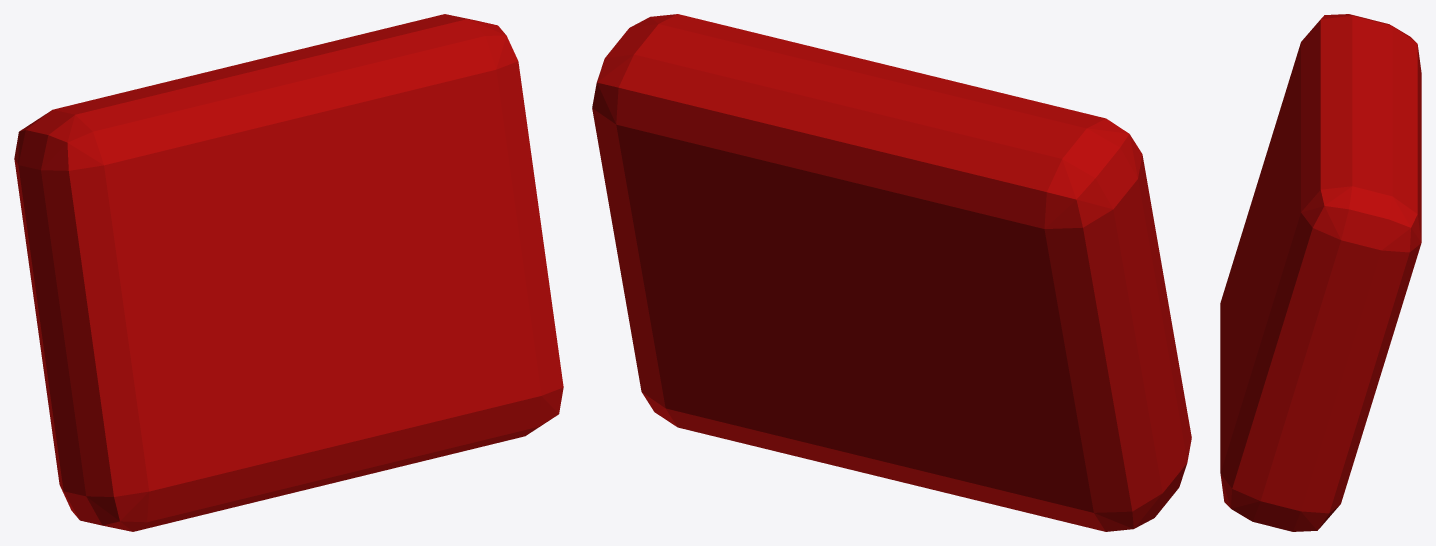
File: 5_button.obj
3 views of the same model, side by side, from view 1: azimuth 30°, elevation 25°; view 2: azimuth 150°, elevation 25°; view 3: azimuth 270°, elevation 25° (orthographic). The views are drawn at different scales.
Bounding box in the file's own units: 0.14 × 0.1092 × 0.0578.
